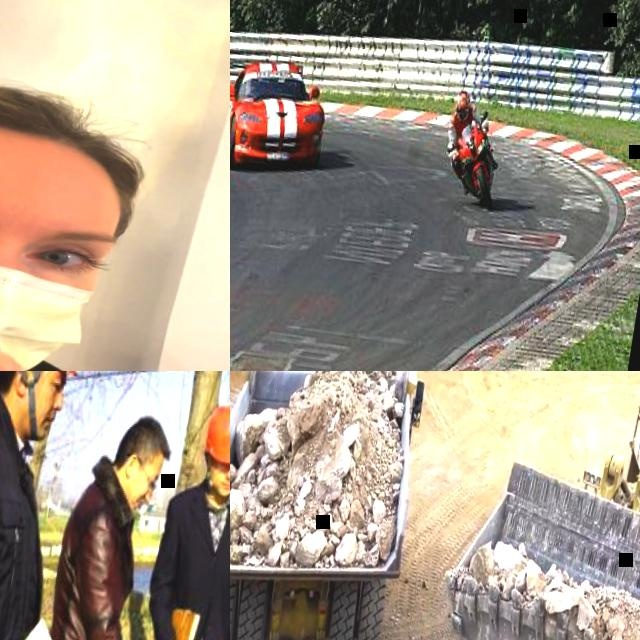Hardhat: (201, 402, 230, 468), (454, 93, 471, 122)
Mask: (0, 185, 108, 371)
NO-Hardhat: (0, 61, 142, 205), (123, 415, 177, 459)
NO-Mask: (12, 381, 60, 444), (122, 473, 150, 516), (208, 474, 230, 502)
NO-Safety Vest: (40, 494, 138, 640), (0, 423, 58, 640), (157, 493, 230, 640), (449, 110, 474, 144)
Person: (0, 26, 230, 371), (12, 404, 202, 640), (107, 395, 230, 640), (0, 371, 98, 640), (438, 89, 484, 193)
machinery: (412, 371, 640, 640), (230, 371, 442, 640)
vehicle: (230, 48, 336, 185)
